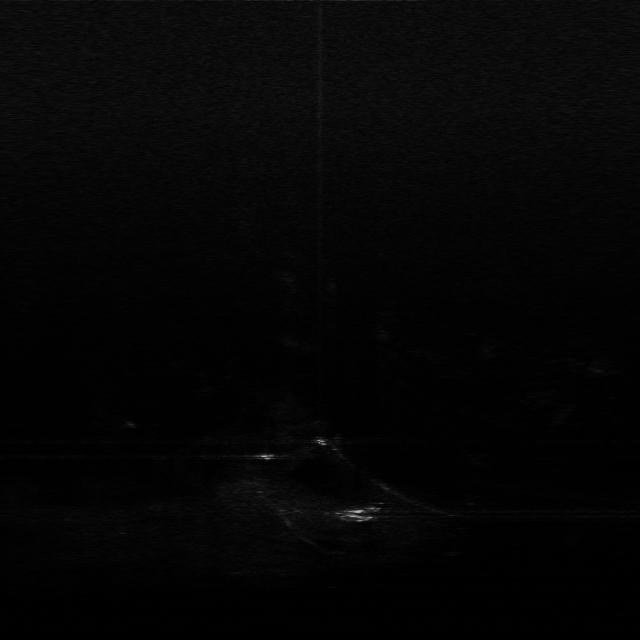rov: (334, 499, 384, 525)
